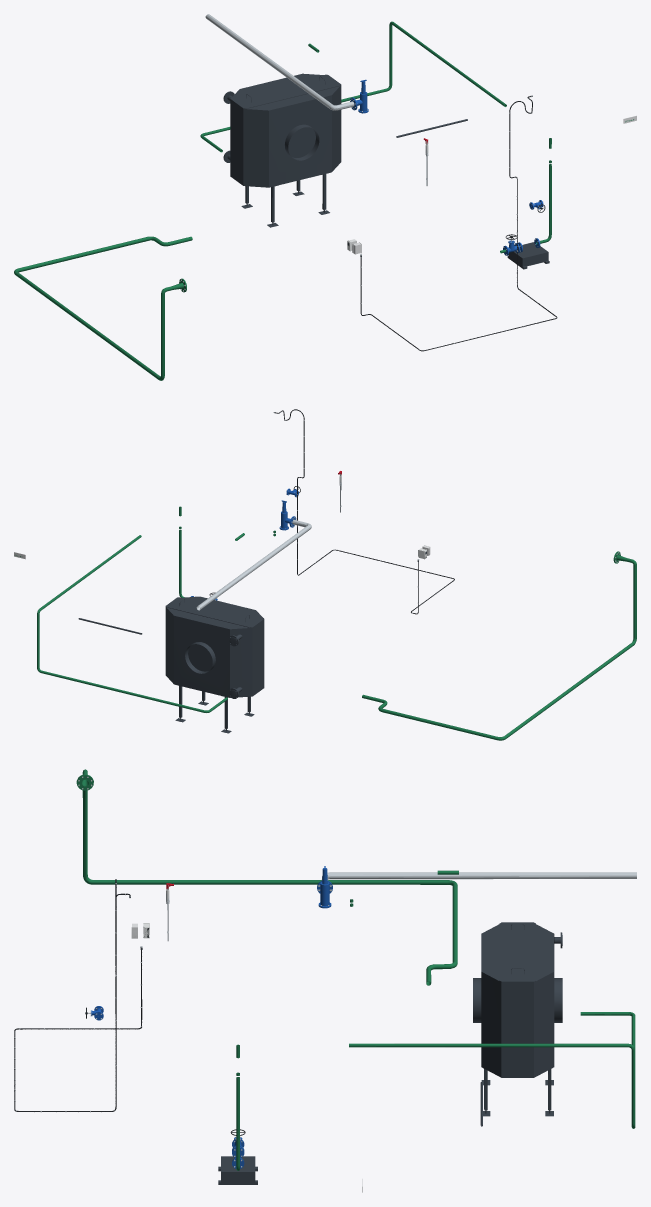
Rendered from s4000-2-MyK7hd68.glb.
3 views of the same model, one above another, from view 1: azimuth 30°, elevation 25°; view 2: azimuth 150°, elevation 25°; view 3: azimuth 270°, elevation 25° (orthographic). The views are drawn at different scales.
Visible parts, largest first — view 1: EQS2-5000 CAD 0, EQS2-5000 CAD 3, deaerator_feed / green, EQS2-5000 CAD 1, to_economizer / green, safety_vent_2 / steel, wiring_pressure_transmitter / black, pump_branch_1 / dark; view 2: EQS2-5000 CAD 0, EQS2-5000 CAD 3, deaerator_feed / green, EQS2-5000 CAD 2, to_economizer / green, safety_vent_2 / steel, wiring_pressure_transmitter / black; view 3: EQS2-5000 CAD 3, deaerator_feed / green, safety_vent_2 / steel, to_economizer / green, EQS2-5000 CAD 0, wiring_pressure_transmitter / black, pump_branch_1 / dark.
Part boxes in pixels (x1,y1,x2,y2): EQS2-5000 CAD 0: (241, 95, 331, 227); EQS2-5000 CAD 3: (230, 73, 341, 185); deaerator_feed / green: (14, 236, 192, 380); EQS2-5000 CAD 1: (243, 109, 268, 187); to_economizer / green: (200, 21, 506, 152); safety_vent_2 / steel: (205, 14, 354, 110); wiring_pressure_transmitter / black: (360, 96, 556, 351); pump_branch_1 / dark: (507, 242, 549, 269); EQS2-5000 CAD 0: (174, 615, 254, 733); EQS2-5000 CAD 3: (165, 596, 264, 695); deaerator_feed / green: (362, 551, 636, 740); EQS2-5000 CAD 2: (228, 628, 252, 698); to_economizer / green: (37, 535, 227, 712); safety_vent_2 / steel: (196, 519, 311, 610); wiring_pressure_transmitter / black: (275, 409, 454, 614); EQS2-5000 CAD 3: (481, 922, 554, 1077); deaerator_feed / green: (76, 769, 457, 985); safety_vent_2 / steel: (321, 872, 636, 880); to_economizer / green: (349, 1012, 635, 1128); EQS2-5000 CAD 0: (473, 945, 562, 1116); wiring_pressure_transmitter / black: (14, 879, 142, 1111); pump_branch_1 / dark: (218, 1156, 257, 1184).
Bounding box in the file's own units: 9.48 × 3.24 × 7.03.
